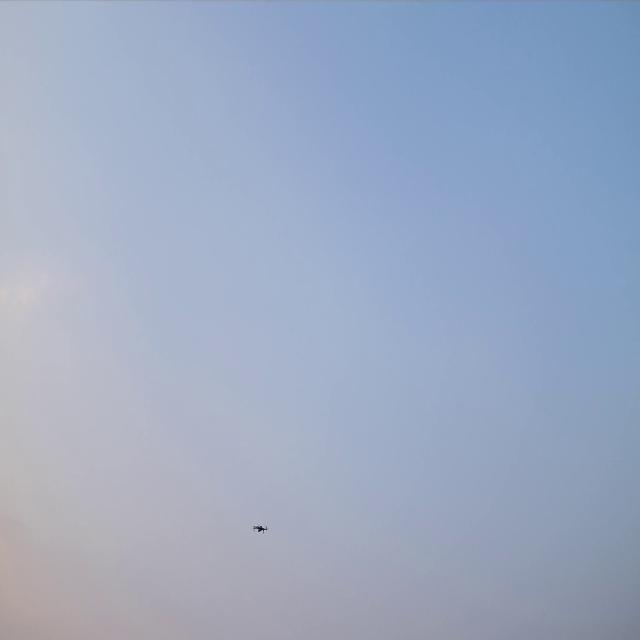UAV: (251, 522, 269, 536)
